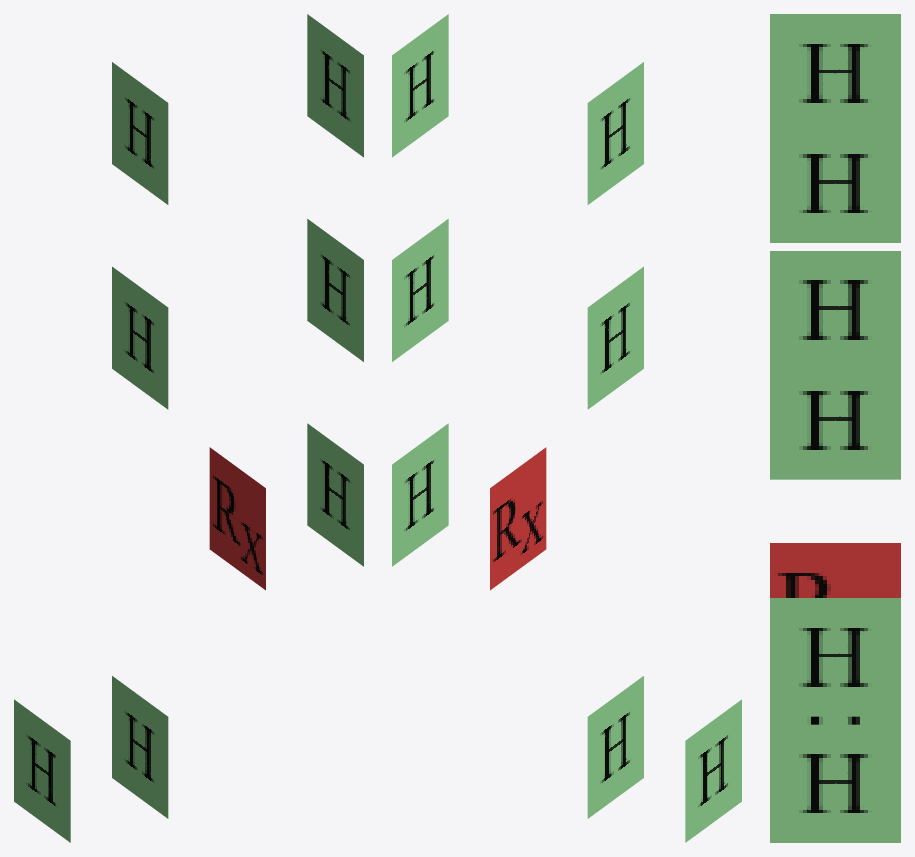
The model's file is repeat.gltf.
3 renders of one model, left to right at view 1: azimuth 30°, elevation 25°; view 2: azimuth 150°, elevation 25°; view 3: azimuth 270°, elevation 25°, orthographic. The views are drawn at different scales.
Size of the model in its own units: 3 by 7 by 1.
1 material, 1 textured.
